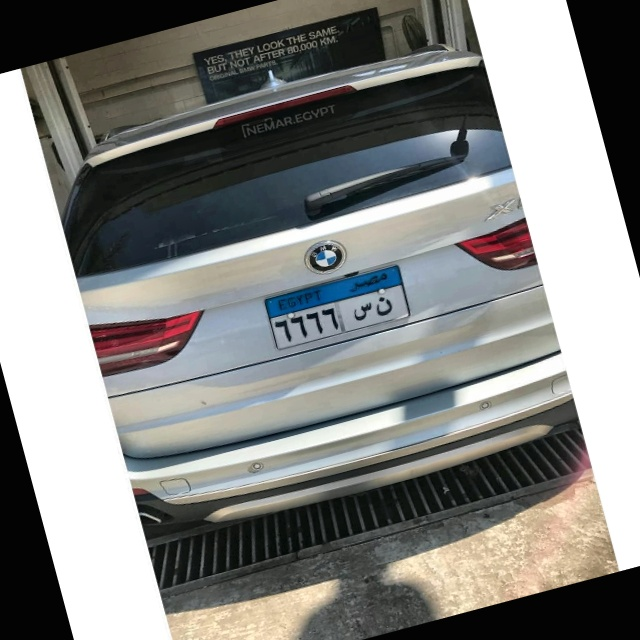License Plate: (260, 259, 414, 354)
